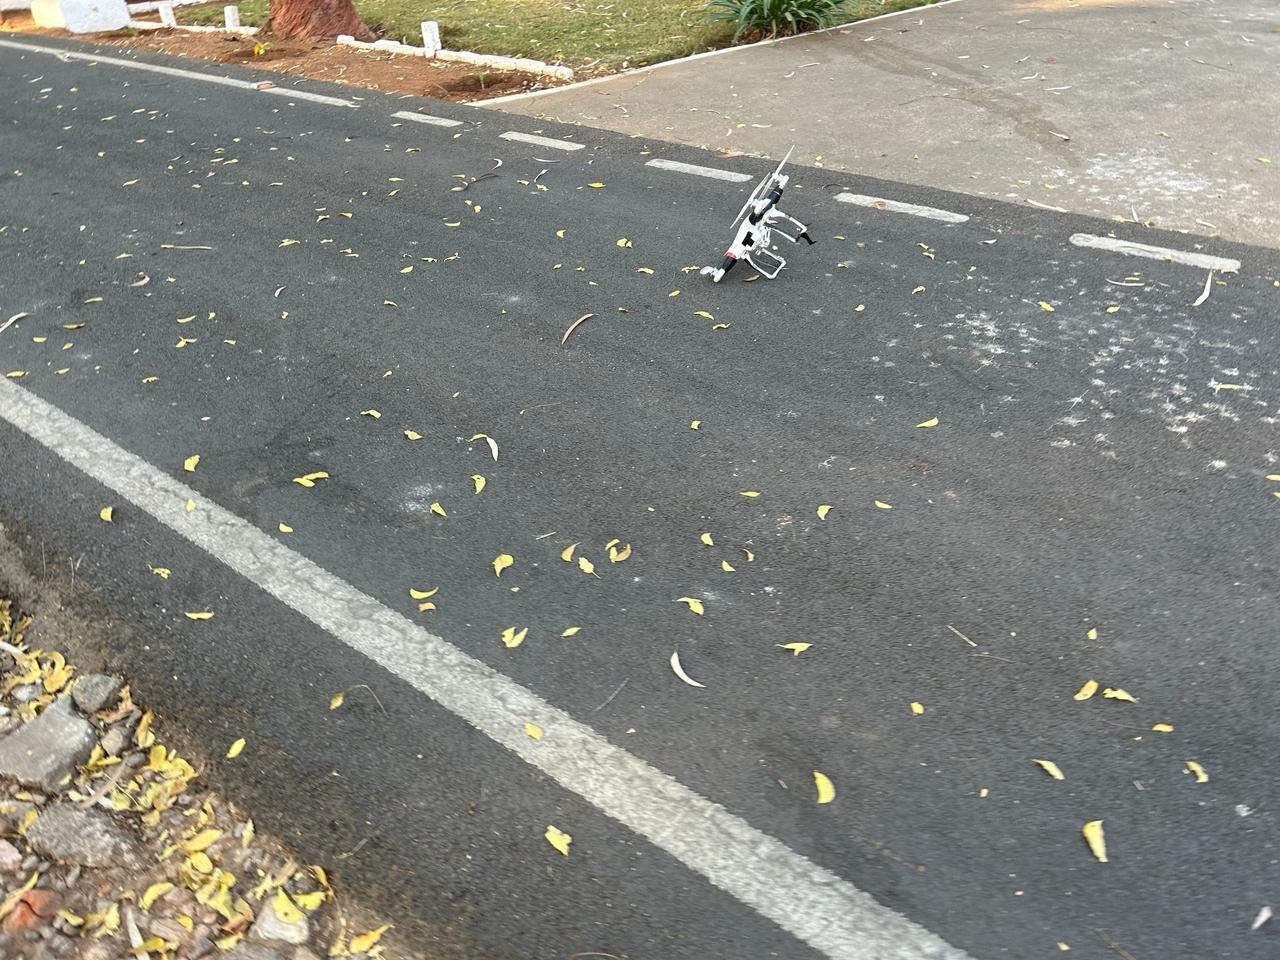drone: (686, 110, 859, 303)
